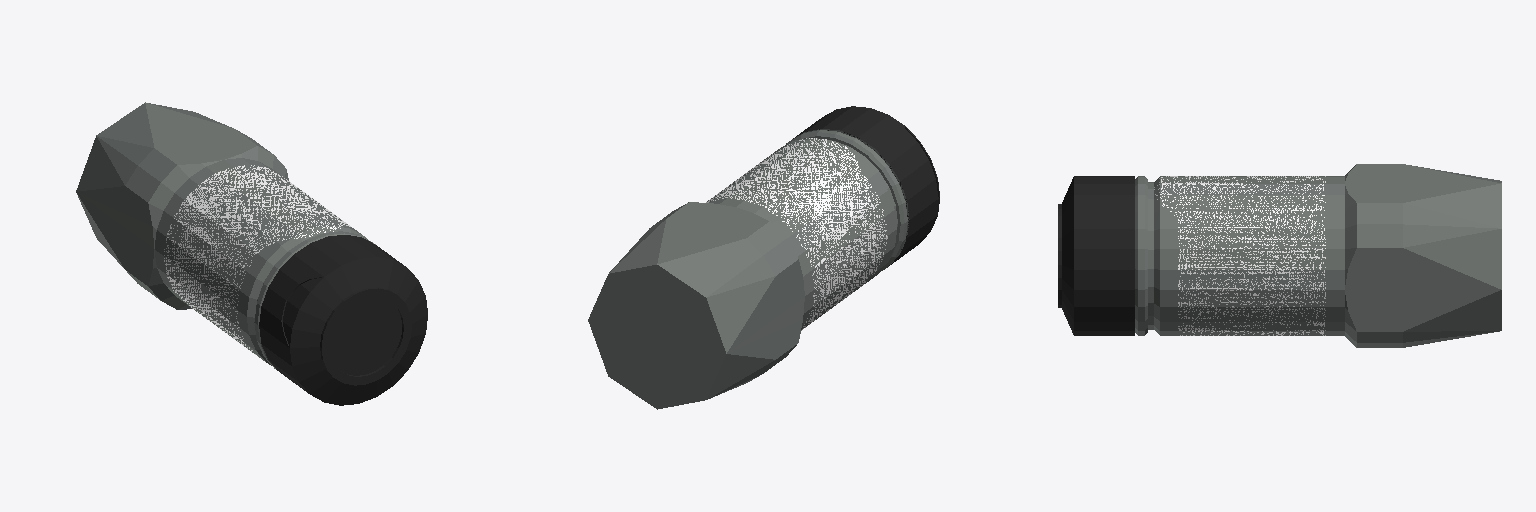
File: model_align.obj
3 renders of one model, left to right at view 1: azimuth 30°, elevation 25°; view 2: azimuth 150°, elevation 25°; view 3: azimuth 270°, elevation 25°, orthographic.
Visible parts, largest first — view 1: mesh3_mesh3-geometry, mesh2_mesh2-geometry; view 2: mesh3_mesh3-geometry, mesh2_mesh2-geometry; view 3: mesh3_mesh3-geometry, mesh2_mesh2-geometry.
Part boxes in pixels (left/top/right/bottom): mesh3_mesh3-geometry: left=76, top=102, right=375, bottom=370; mesh2_mesh2-geometry: left=259, top=235, right=427, bottom=405; mesh3_mesh3-geometry: left=588, top=129, right=909, bottom=409; mesh2_mesh2-geometry: left=793, top=106, right=939, bottom=264; mesh3_mesh3-geometry: left=1135, top=164, right=1501, bottom=347; mesh2_mesh2-geometry: left=1058, top=176, right=1134, bottom=335.
Size of the model in its own units: 0.0565 by 0.0565 by 0.1564.